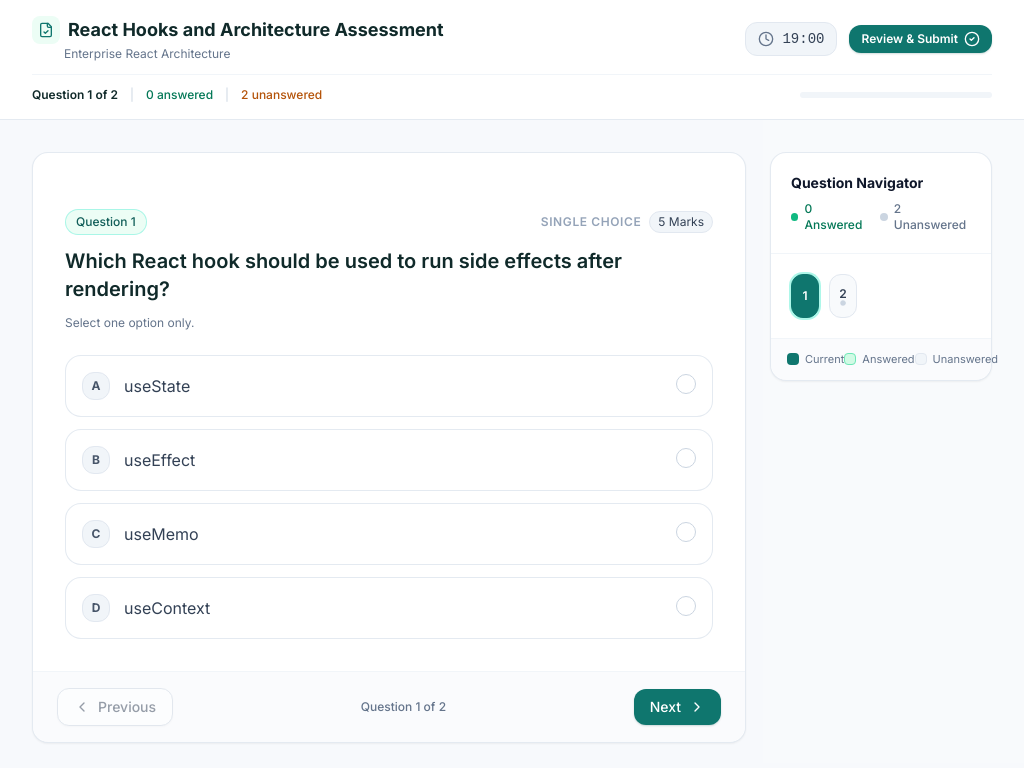
AssessmentPlayerPage › selects single answer
Click the text "useEffect" at [160, 460], box [124,450,195,470]
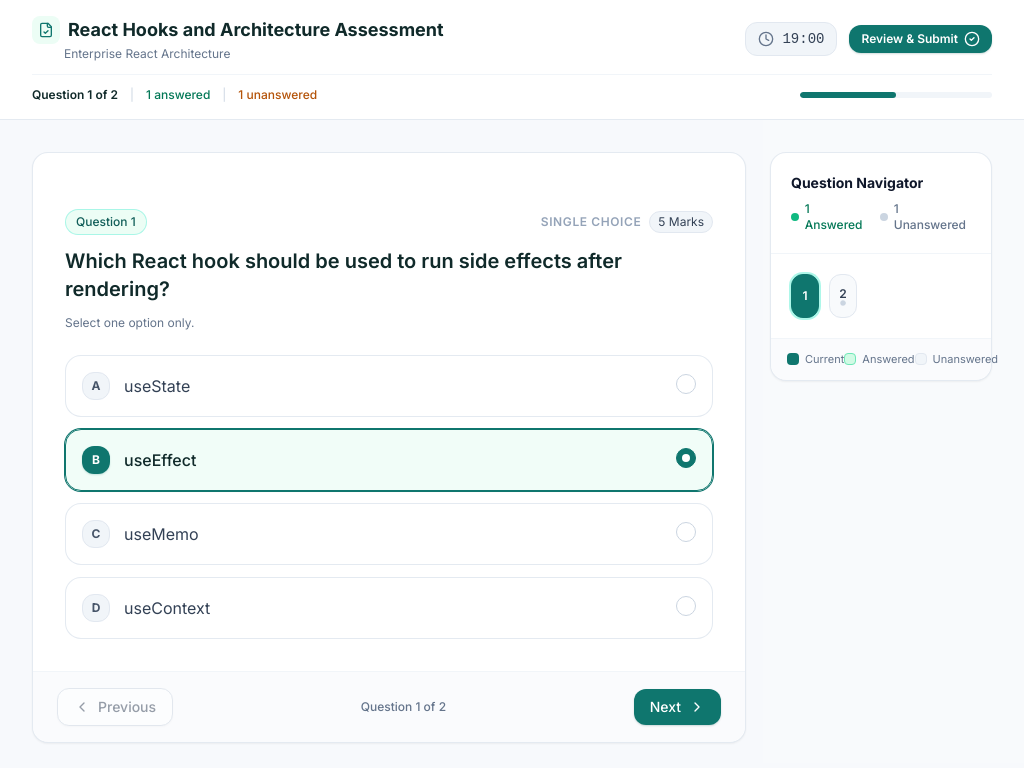
Expected: the radio button labelled "B useEffect" is checked, [65,429,713,491]
